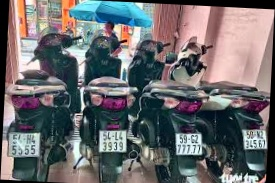Bien-so: (12, 131, 45, 159), (104, 129, 135, 155), (180, 132, 211, 158), (252, 129, 275, 152)
